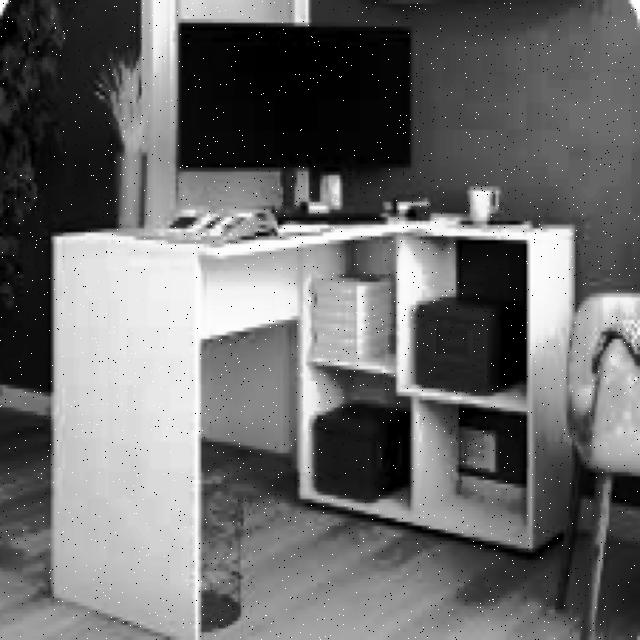book: (552, 289, 637, 640)
table: (48, 205, 574, 640)
